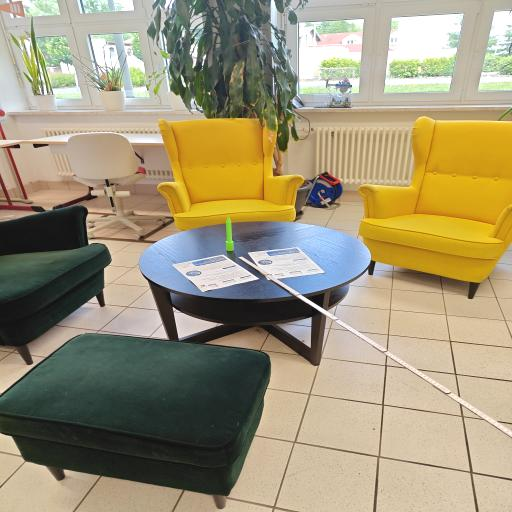Probe-Detection: (226, 215, 233, 251)
